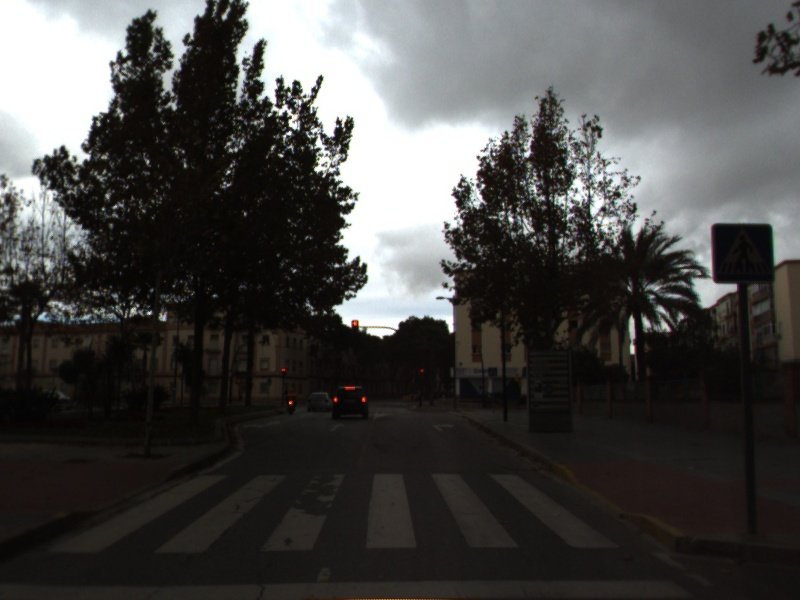RIGHT: (430, 421, 457, 434)
STRAIGHT: (328, 421, 347, 434)
STRAIGHT_LEFT: (241, 419, 282, 431)
